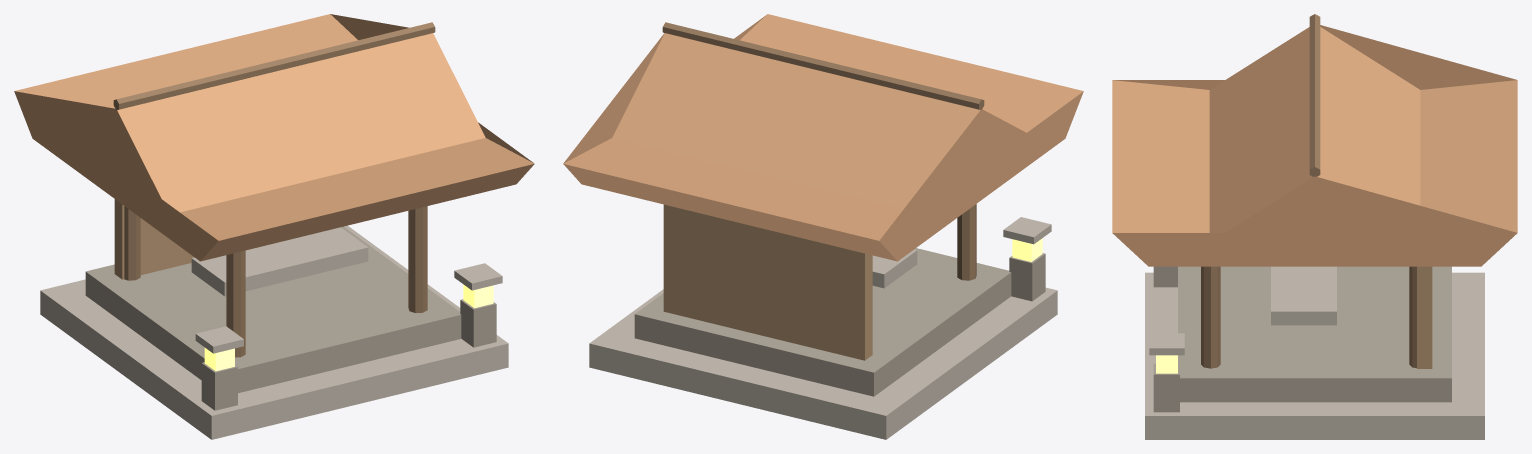
Rendered from shrine.glb.
3 renders of one model, left to right at view 1: azimuth 30°, elevation 25°; view 2: azimuth 150°, elevation 25°; view 3: azimuth 270°, elevation 25°, orthographic.
Visible parts, largest first — view 1: roof, step_2, step_1, altar_tab, ridge, back, post_1_1, post_-1_1, lamp_post_-1, lamp_post_1, post_-1_-1, lamp_cap_1 (+3 smaller); view 2: roof, back, step_1, step_2, ridge, lamp_post_-1, post_-1_1, altar_tab, lamp_cap_-1, lamp_glow_-1; view 3: roof, step_2, step_1, altar_tab, post_1_1, ridge, back, lamp_post_1, lamp_cap_1, post_1_-1, lamp_post_-1, lamp_glow_1.
Boxes of the visible parts, box(x1,y1,x2,y2) form: roof: box(14, 14, 534, 261); step_2: box(85, 226, 461, 393); step_1: box(40, 225, 508, 439); altar_tab: box(191, 227, 368, 296); ridge: box(113, 22, 435, 110); back: box(114, 199, 194, 279); post_1_1: box(408, 206, 427, 313); post_-1_1: box(226, 250, 245, 357); lamp_post_-1: box(201, 362, 237, 410); lamp_post_1: box(460, 299, 496, 347); post_-1_-1: box(124, 206, 140, 280); lamp_cap_1: box(454, 263, 502, 290); roof: box(563, 14, 1083, 261); back: box(663, 204, 872, 360); step_1: box(589, 287, 1057, 439); step_2: box(634, 248, 1011, 396); ridge: box(662, 22, 984, 110); lamp_post_-1: box(1009, 253, 1045, 301); post_-1_1: box(957, 204, 976, 280); altar_tab: box(872, 249, 917, 288); lamp_cap_-1: box(1003, 217, 1051, 244); lamp_glow_-1: box(1012, 238, 1042, 261); roof: box(1112, 25, 1517, 266); step_2: box(1178, 266, 1451, 402); step_1: box(1145, 272, 1484, 439); altar_tab: box(1271, 266, 1336, 325); post_1_1: box(1201, 266, 1220, 368); ridge: box(1309, 14, 1320, 176); back: box(1417, 266, 1432, 368); lamp_post_1: box(1153, 363, 1179, 412); lamp_cap_1: box(1149, 333, 1184, 355); post_1_-1: box(1409, 266, 1416, 368); lamp_post_-1: box(1153, 266, 1177, 287); lamp_glow_1: box(1156, 355, 1177, 373).
Size of the model in its own units: 3.42 by 2.9 by 3.84.
